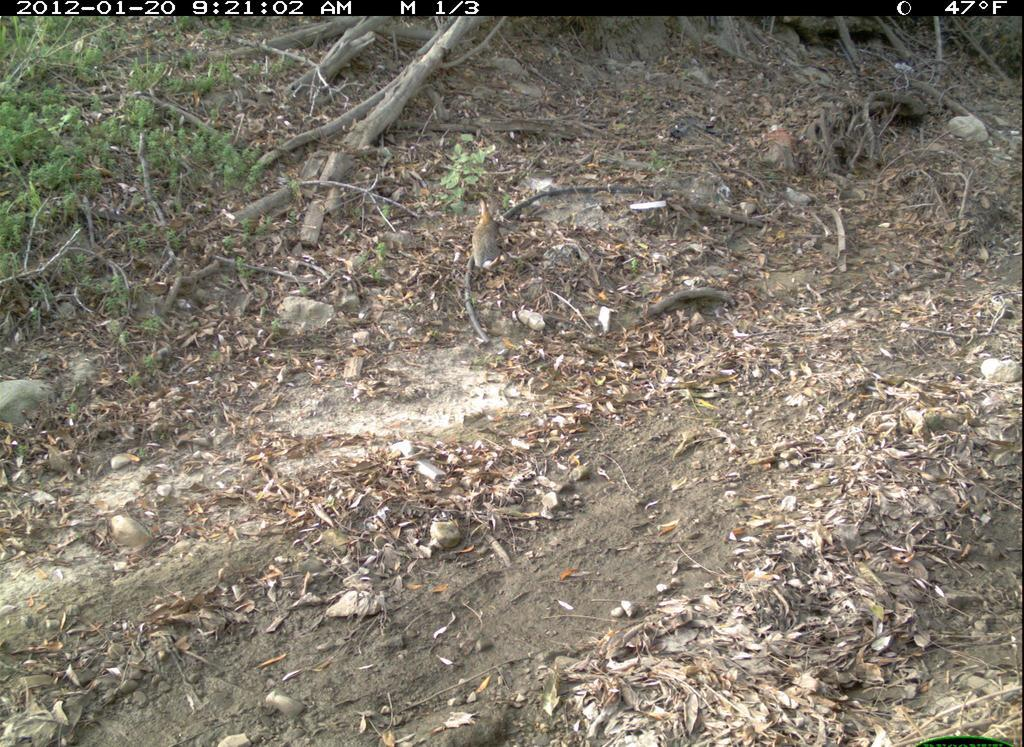rabbit: (471, 196, 510, 275)
